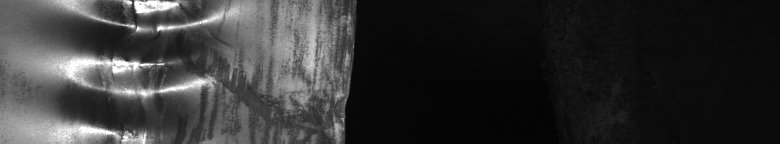ke: (62, 4, 332, 136)
